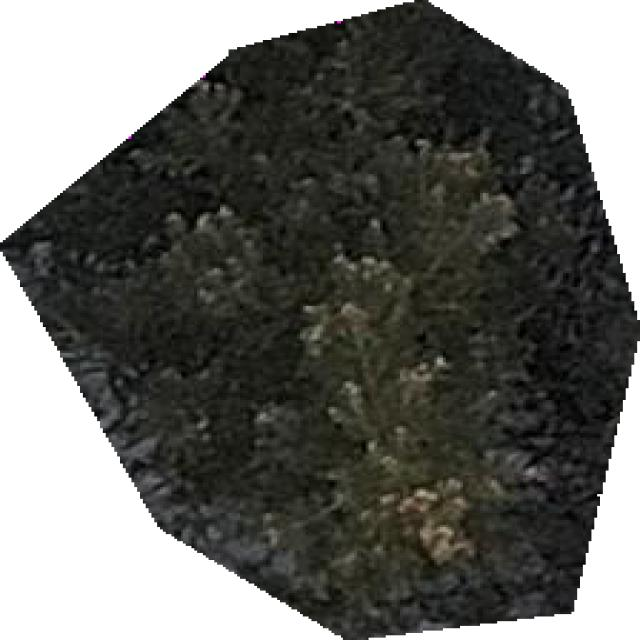spruce: (0, 0, 637, 638)
